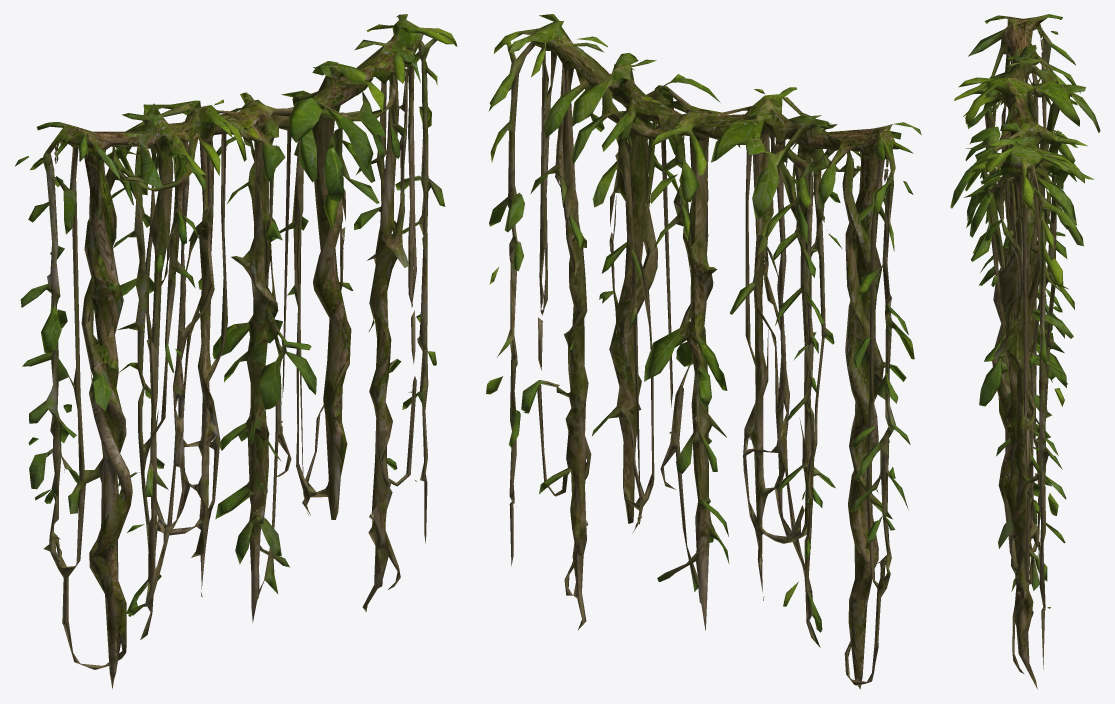
File: VEG_CortinaLianas_01_LOD0.fbx
3 renders of one model, left to right at view 1: azimuth 30°, elevation 25°; view 2: azimuth 150°, elevation 25°; view 3: azimuth 270°, elevation 25°, orthographic. The views are drawn at different scales.
Visible parts, largest first — view 1: VEG_CortinaLianas_01_Mesh000; view 2: VEG_CortinaLianas_01_Mesh000; view 3: VEG_CortinaLianas_01_Mesh000.
Part boxes in pixels (<box>): VEG_CortinaLianas_01_Mesh000: <box>15,14,457,689</box>; VEG_CortinaLianas_01_Mesh000: <box>486,14,921,689</box>; VEG_CortinaLianas_01_Mesh000: <box>950,14,1100,689</box>.
Size of the model in its own units: 2.65 by 3.5 by 0.8464.
